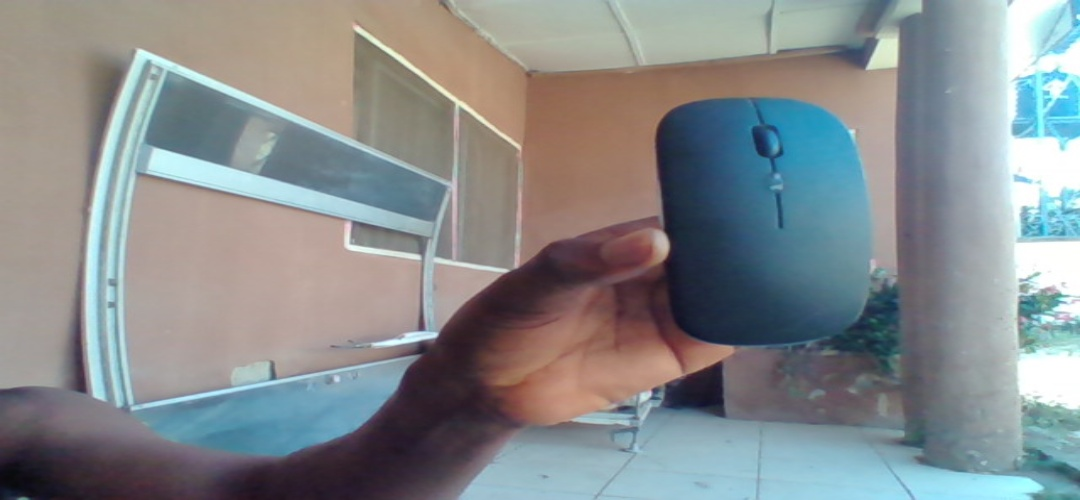wireless_mouse: (663, 97, 871, 348)
